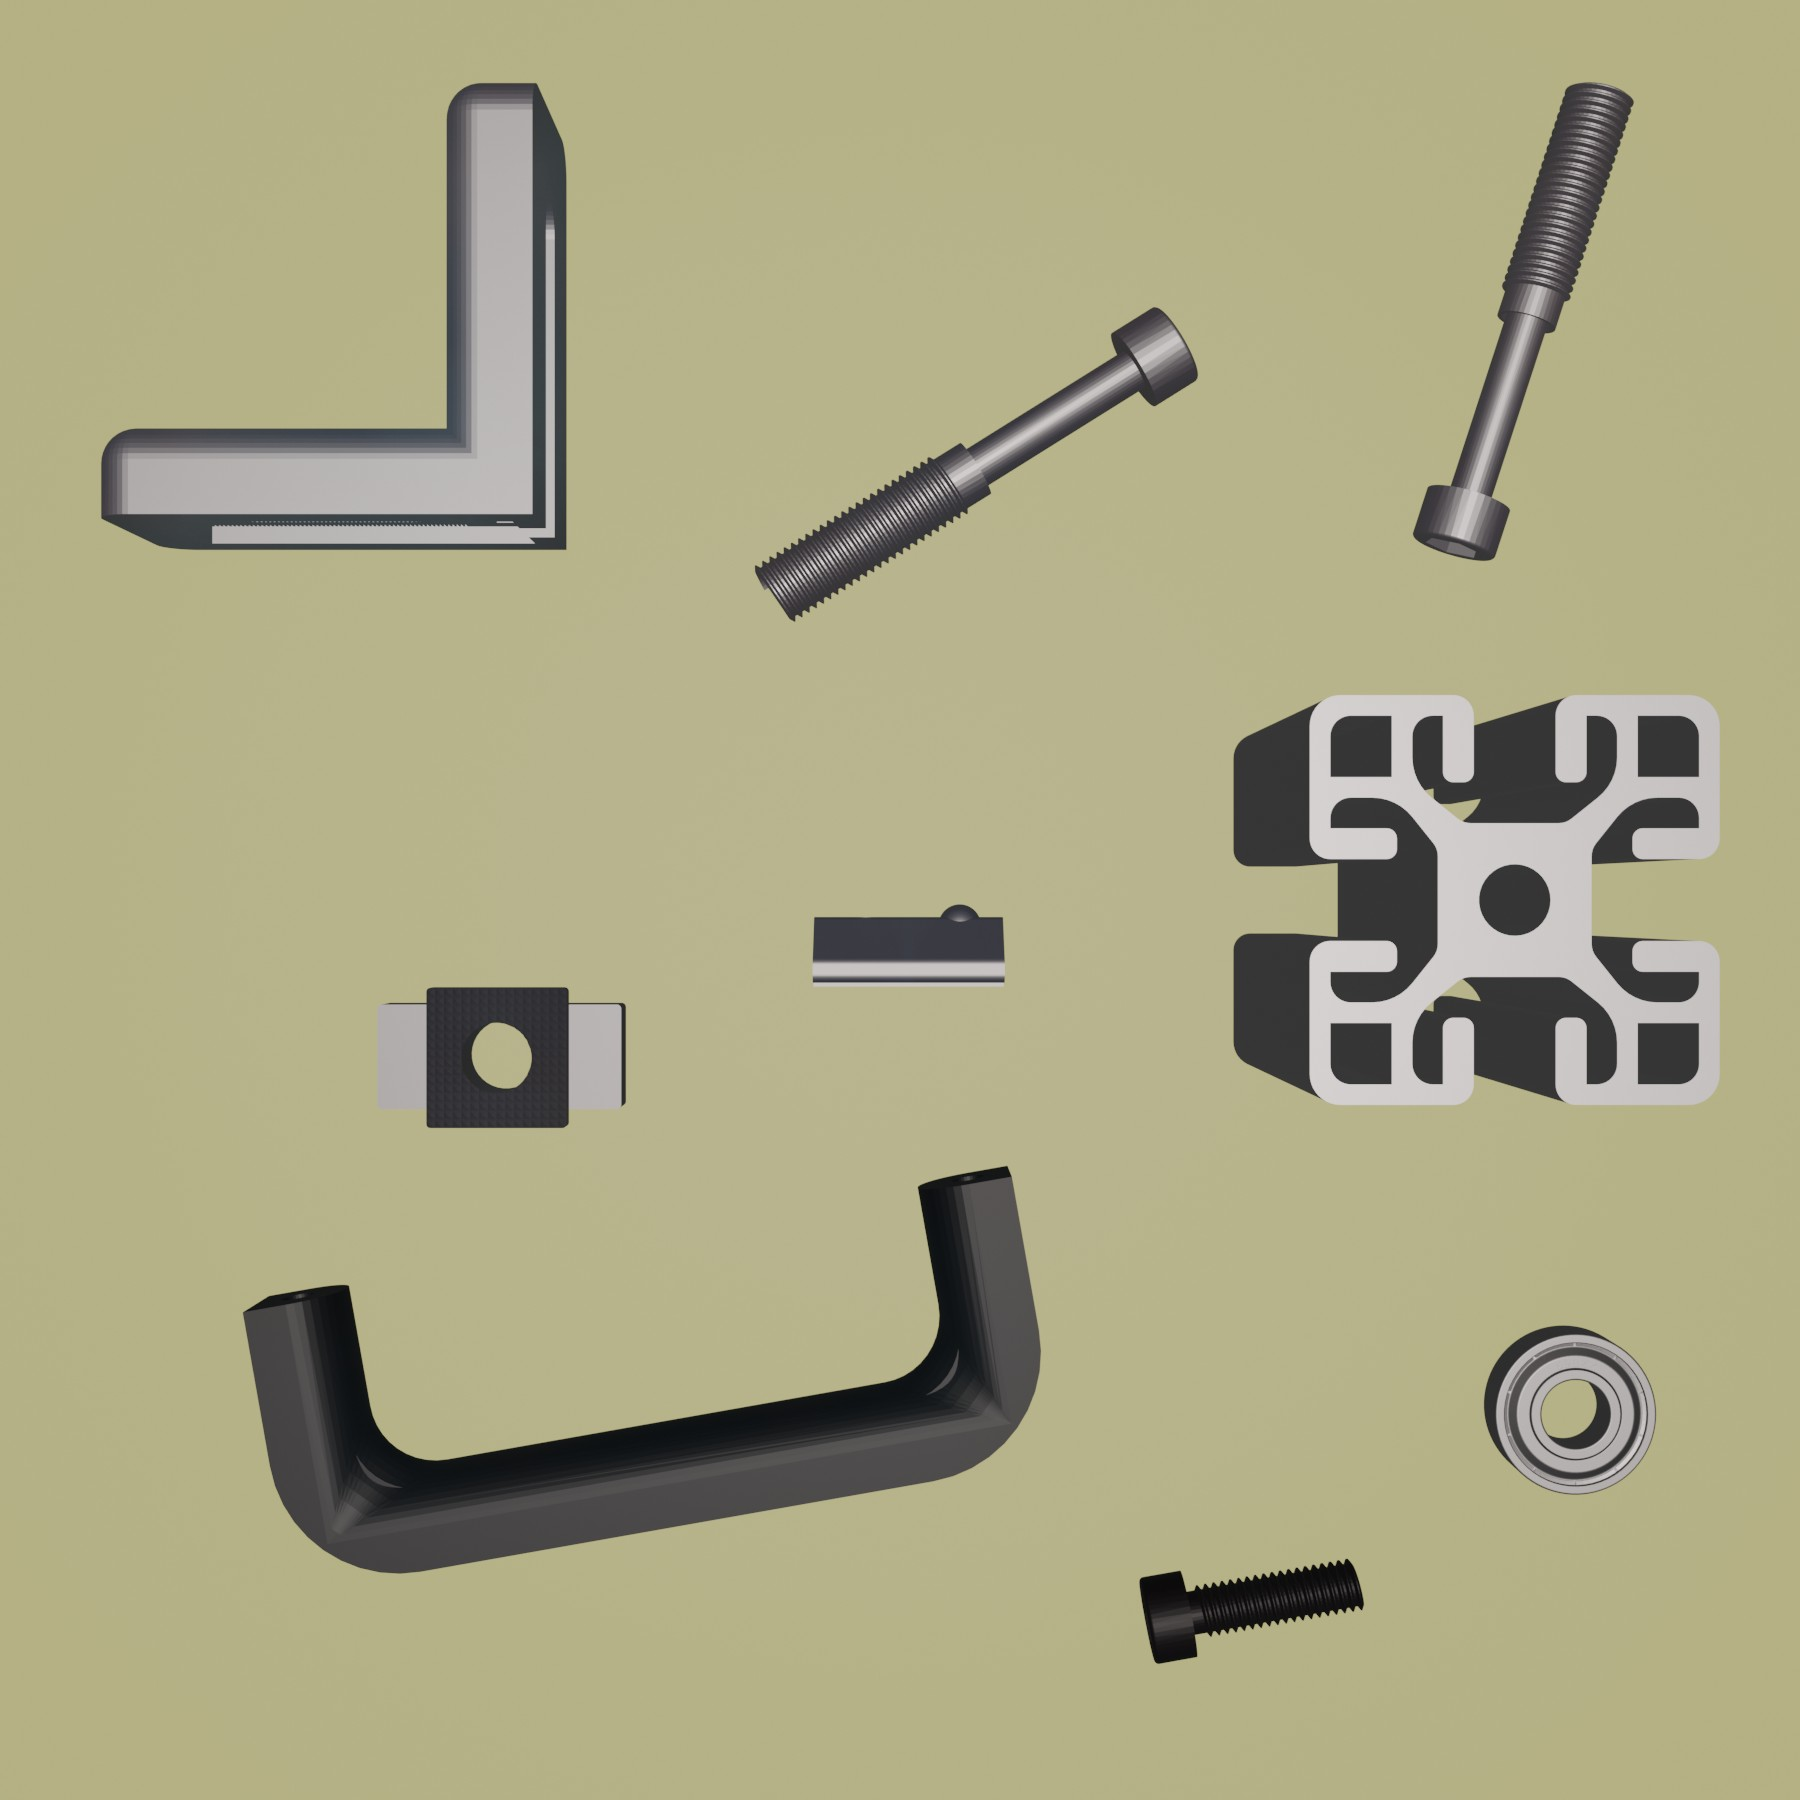Aluminium Extension: (1231, 689, 1723, 1111)
Ball Bearing: (1479, 1324, 1662, 1497)
Multiwinkel: (97, 81, 570, 555)
Pull Handle: (237, 1162, 1043, 1577)
Shoulder Socket Head Cap Screw: (752, 303, 1202, 626), (1411, 77, 1635, 564)
Socket Head Cap Screw: (1136, 1554, 1366, 1666)
T Nut Square: (373, 982, 630, 1131)
T Spring Nut: (808, 898, 1009, 991)
